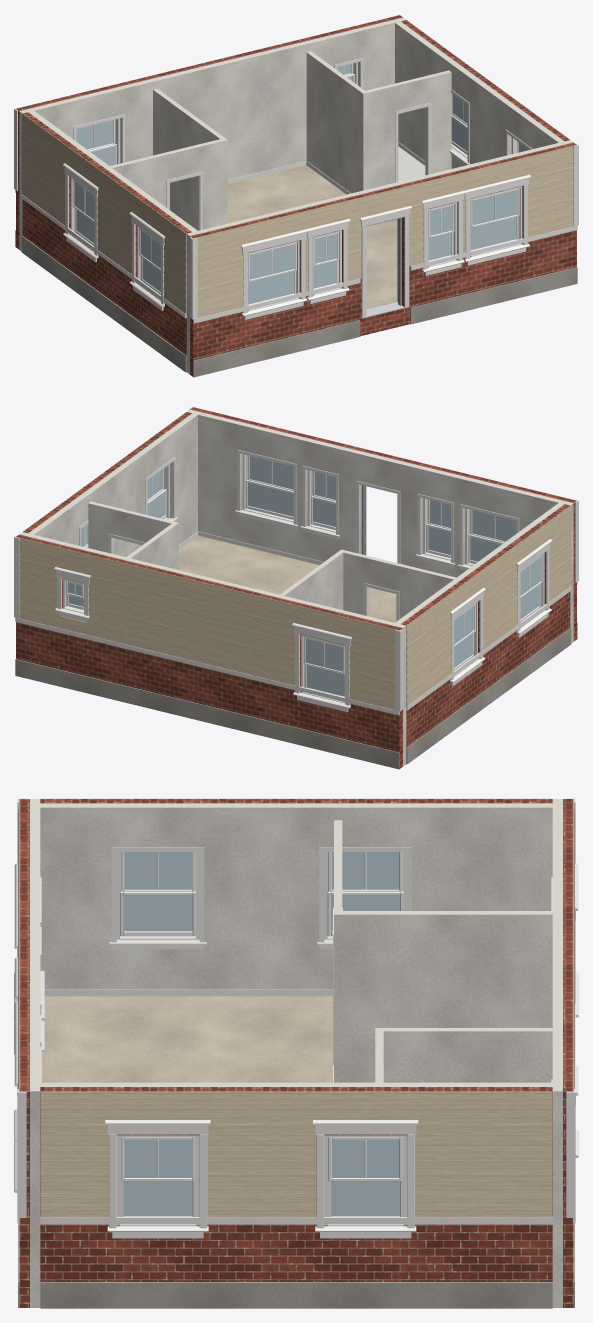
File: office_shell.glb
3 renders of one model, top to bottom at view 1: azimuth 30°, elevation 25°; view 2: azimuth 150°, elevation 25°; view 3: azimuth 270°, elevation 25°, orthographic. The views are drawn at different scales.
Visible parts, largest first — view 1: office_shell_plaster, office_shell_siding, office_shell_brick, office_shell_trim, office_shell_glass, office_shell_conc_s, office_shell_vinyl_f, office_shell_sash, office_shell_frame, office_shell_tile_f; view 2: office_shell_plaster, office_shell_siding, office_shell_brick, office_shell_trim, office_shell_glass, office_shell_conc_s, office_shell_vinyl_f, office_shell_sash, office_shell_frame; view 3: office_shell_plaster, office_shell_siding, office_shell_brick, office_shell_vinyl_f, office_shell_trim, office_shell_glass, office_shell_conc_s, office_shell_sash, office_shell_frame.
Boxes of the visible parts, x1,y1,x2,y2 form: office_shell_plaster: (19, 17, 573, 374); office_shell_siding: (16, 15, 576, 317); office_shell_brick: (16, 15, 576, 376); office_shell_trim: (14, 14, 578, 323); office_shell_glass: (74, 64, 528, 304); office_shell_conc_s: (15, 230, 577, 377); office_shell_vinyl_f: (227, 165, 397, 309); office_shell_sash: (72, 63, 519, 305); office_shell_frame: (70, 62, 522, 305); office_shell_tile_f: (398, 146, 425, 181); office_shell_plaster: (19, 409, 573, 766); office_shell_siding: (16, 407, 576, 709); office_shell_brick: (16, 407, 576, 768); office_shell_trim: (14, 406, 578, 715); office_shell_glass: (67, 456, 540, 696); office_shell_conc_s: (15, 622, 577, 769); office_shell_vinyl_f: (179, 535, 396, 622); office_shell_sash: (65, 455, 542, 697); office_shell_frame: (63, 454, 544, 697); office_shell_plaster: (30, 799, 562, 1307); office_shell_siding: (18, 798, 574, 1217); office_shell_brick: (19, 799, 573, 1307); office_shell_vinyl_f: (41, 996, 332, 1082); office_shell_trim: (14, 798, 578, 1238); office_shell_glass: (123, 852, 400, 1216); office_shell_conc_s: (18, 1223, 574, 1308); office_shell_sash: (120, 852, 403, 1216); office_shell_frame: (116, 852, 407, 1225).
Bounding box in the file's own units: 10.16 × 3.45 × 8.16.
Materials: 12 (5 with a texture image).
